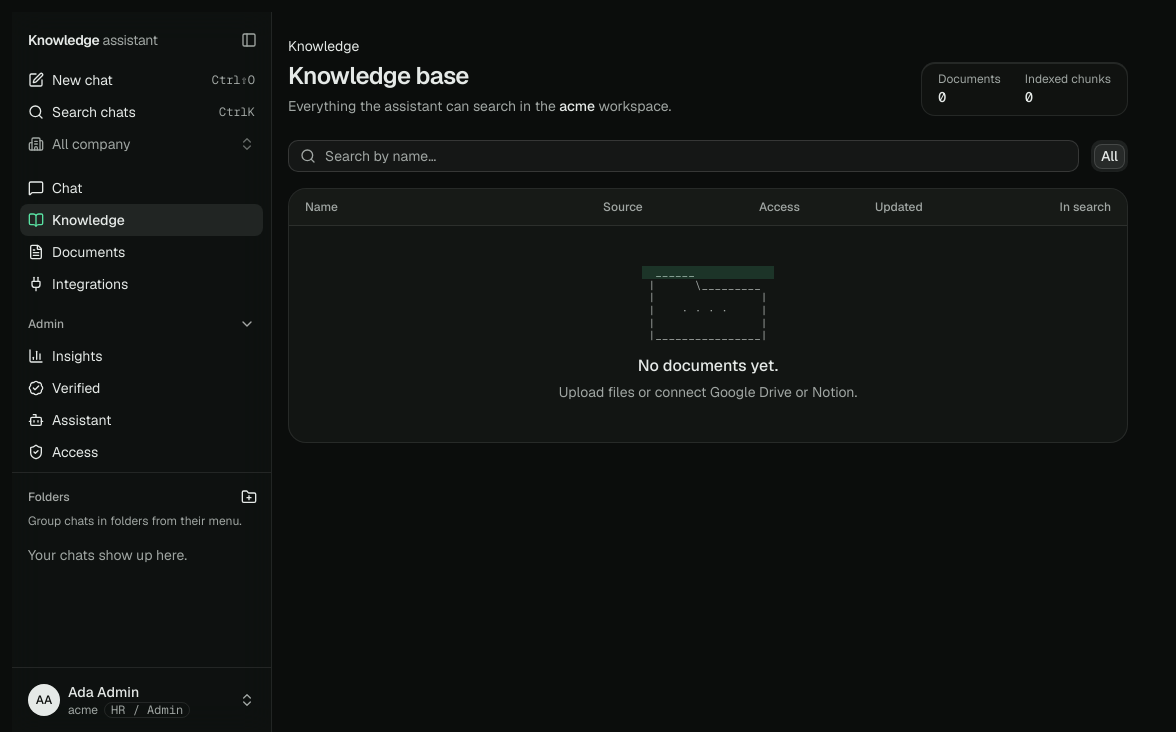
Test case: the account menu › adds View as for an admin (the admin tour is in Take the tour), and nothing else
Click the button "AA Ada Admin acme HR / Admin" at (142, 700), box [20, 676, 263, 724]
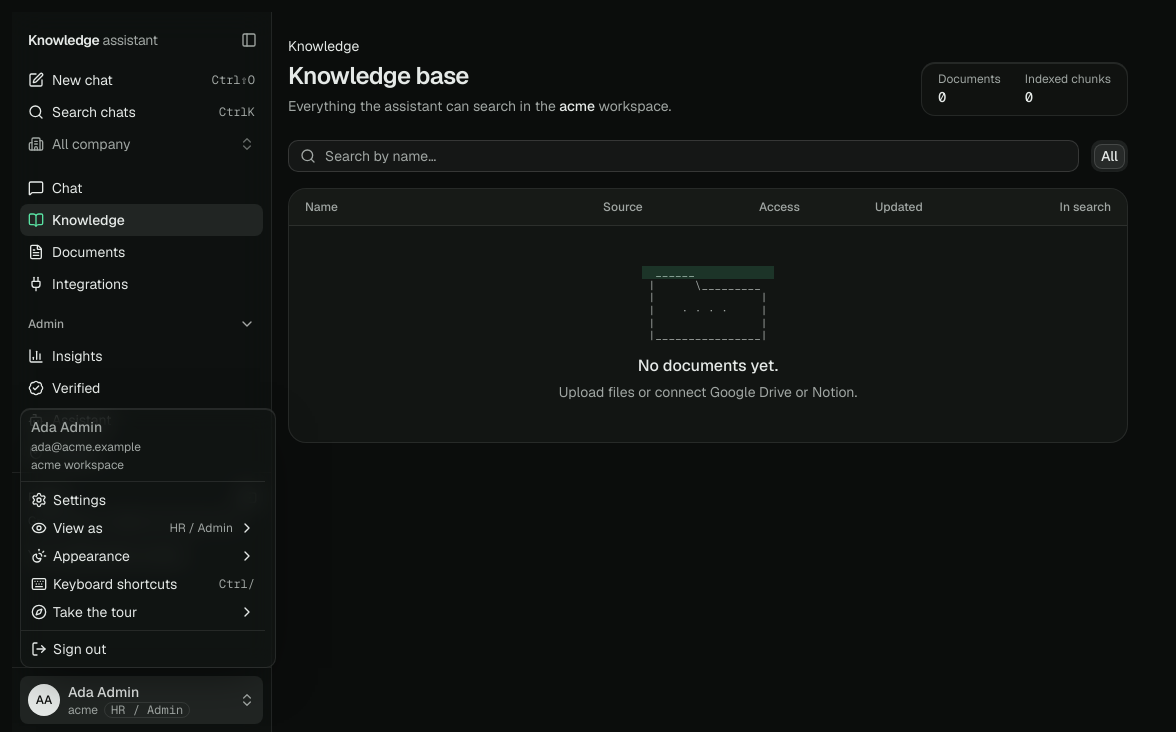
Check: the menu item "Settings" is shown, box [31, 491, 106, 509]
